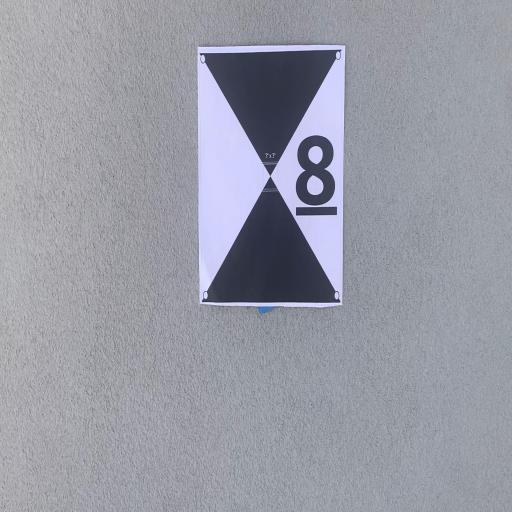target8: (198, 47, 345, 307)
